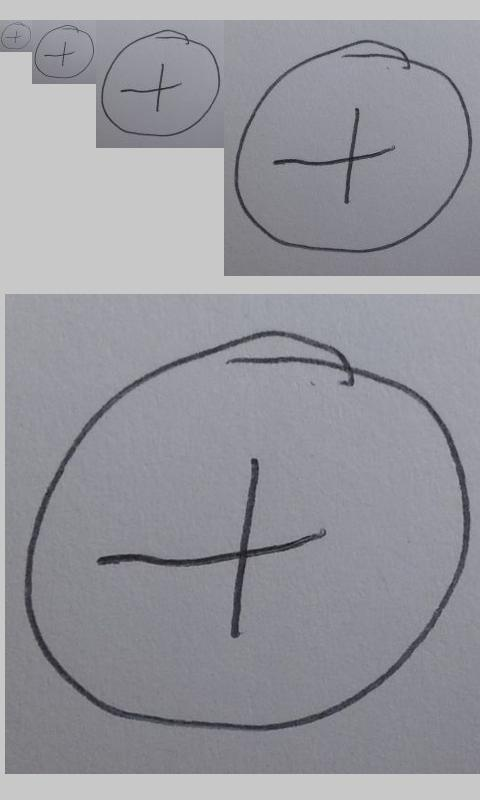button: (24, 328, 473, 731), (234, 39, 473, 254), (100, 29, 221, 137), (34, 24, 96, 79), (1, 22, 32, 50)
